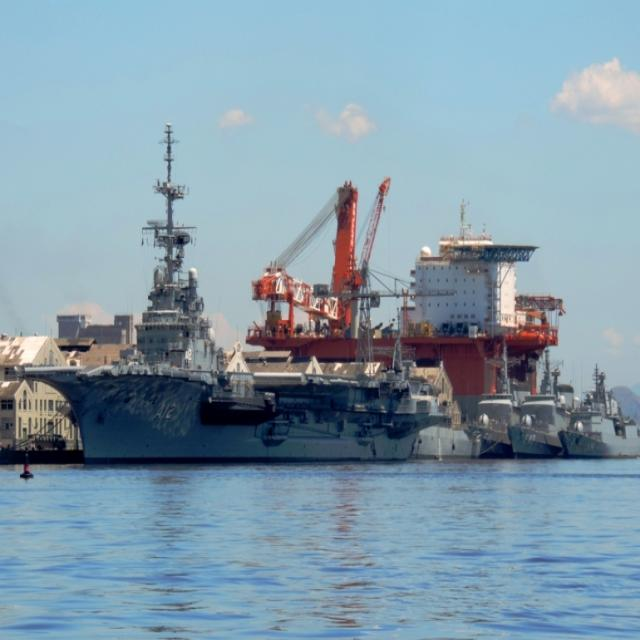Portanaves: (6, 120, 404, 481)
